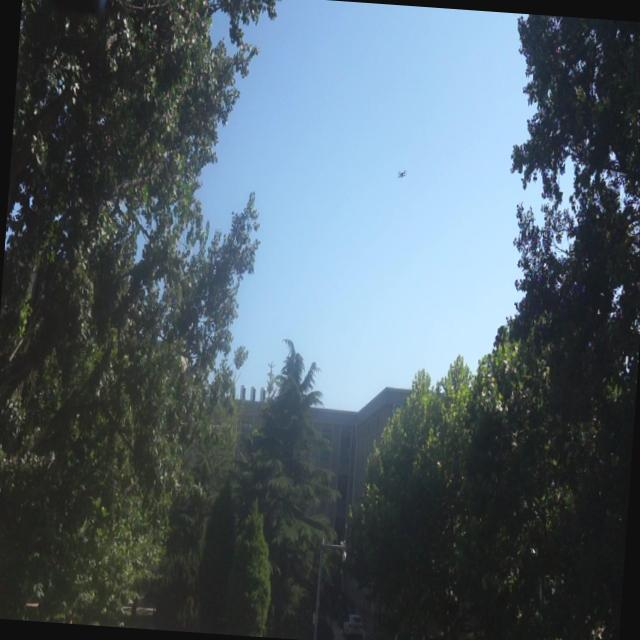drone: (395, 163, 408, 180)
